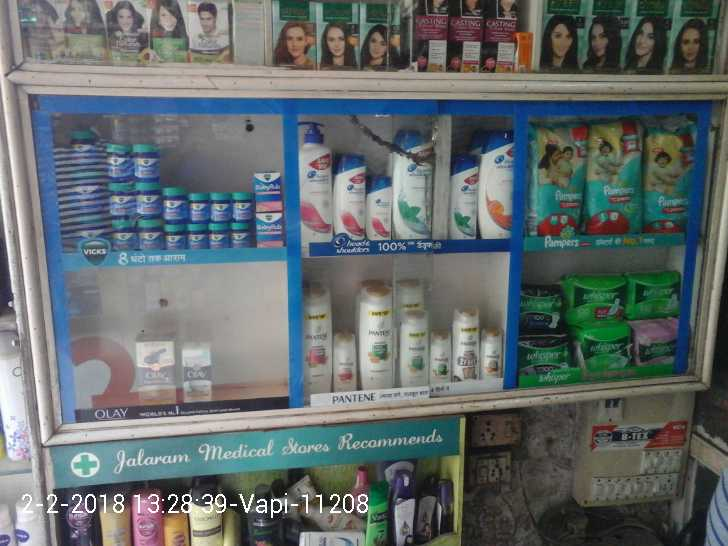beauty: (291, 121, 331, 250), (392, 121, 434, 242), (359, 276, 403, 387), (476, 116, 511, 251), (130, 332, 181, 410), (330, 149, 368, 252), (394, 303, 435, 391), (308, 280, 339, 389), (448, 308, 481, 390), (446, 154, 478, 235), (177, 337, 215, 405), (367, 171, 395, 240), (475, 323, 505, 382), (330, 334, 358, 395), (430, 337, 450, 380)
pharmacy: (532, 111, 585, 244), (644, 117, 697, 242), (591, 120, 638, 234), (565, 277, 630, 327), (512, 329, 568, 381), (629, 325, 688, 366), (572, 330, 632, 365), (253, 171, 281, 245), (627, 276, 677, 316), (520, 283, 567, 322), (154, 182, 190, 218), (130, 135, 161, 172), (106, 140, 130, 185), (135, 179, 161, 215), (204, 187, 230, 223), (108, 221, 138, 252), (106, 183, 132, 216), (232, 186, 253, 223), (137, 221, 160, 252), (189, 189, 207, 221), (164, 221, 183, 251), (228, 224, 249, 249), (186, 227, 207, 251), (206, 224, 227, 247)
